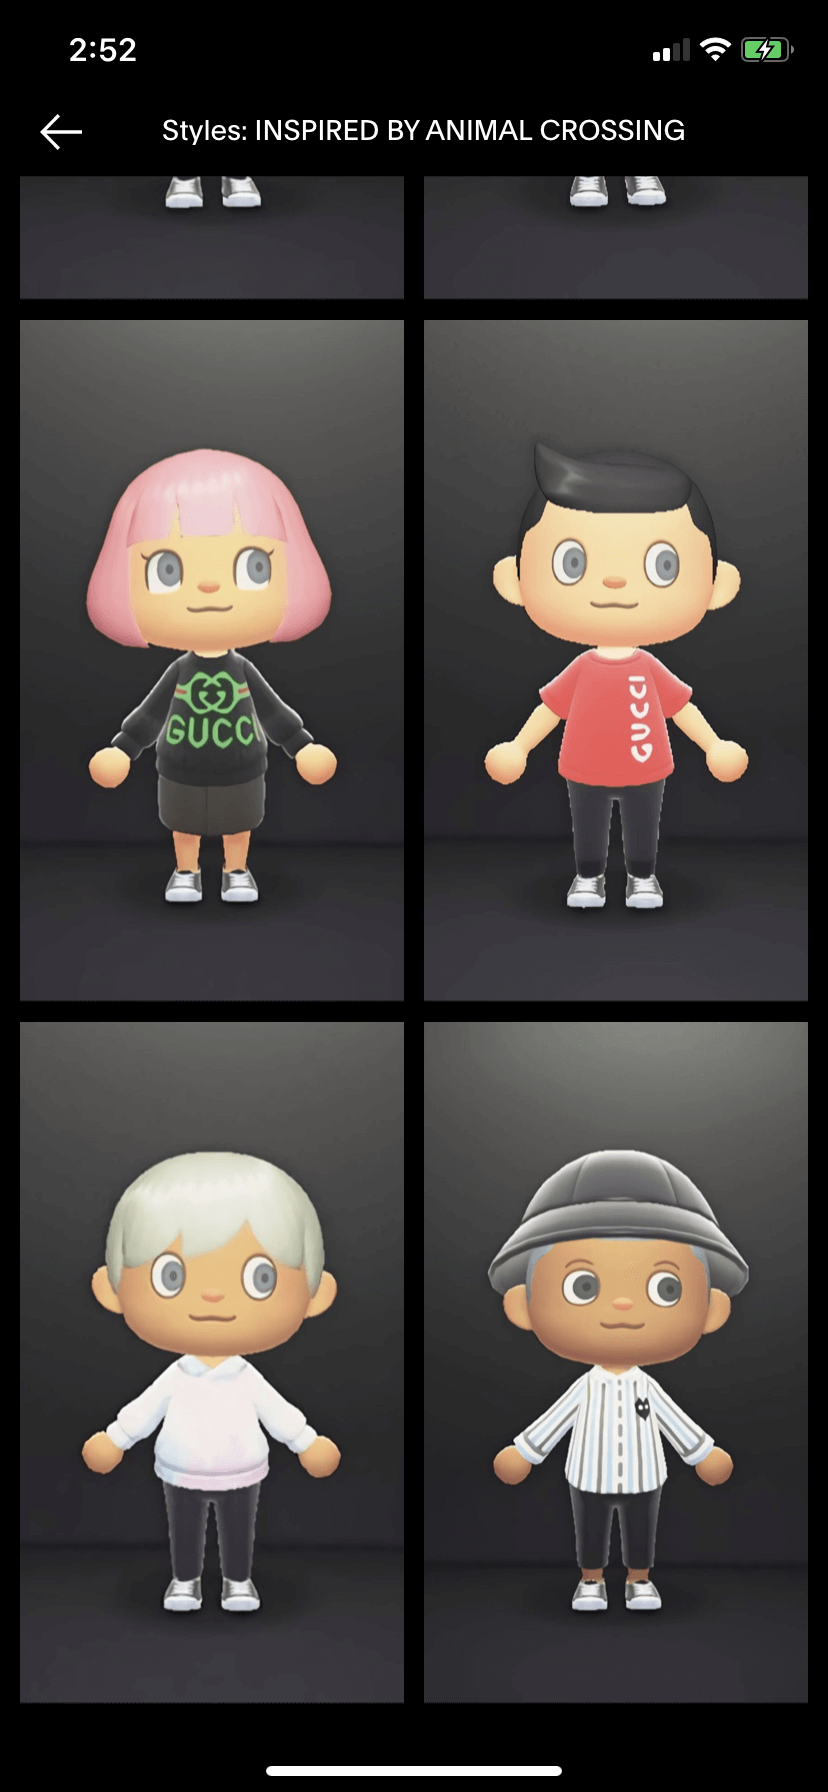Buttons: (18, 98, 98, 166)
